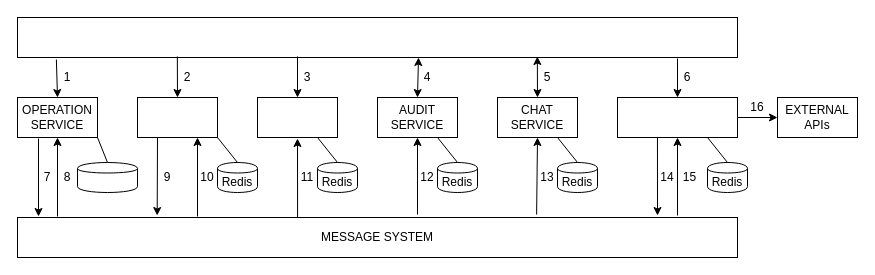
Some shapes in this 875 by 275 pixel diagram are drawn without their labels. The shapes that lost their labels are listed below. From the top down, each one's centre as x and y in pixels, then its label:
At (x=377, y=37): "API GATEWAY".
At (x=177, y=117): "SCHEDULE SERVICE".
At (x=297, y=117): "REPORT SERVICE".
At (x=677, y=117): "NOTIFICATION SERVICE".
At (x=107, y=177): "RDBMS".
